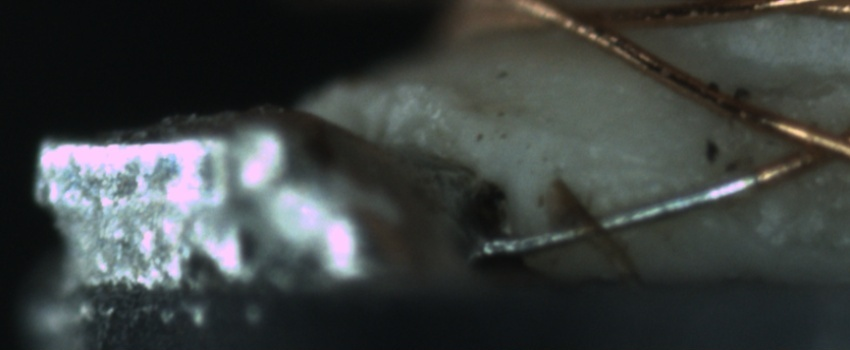CL: (734, 97, 850, 187)
DL: (537, 147, 686, 192)
TS: (487, 175, 756, 254)
